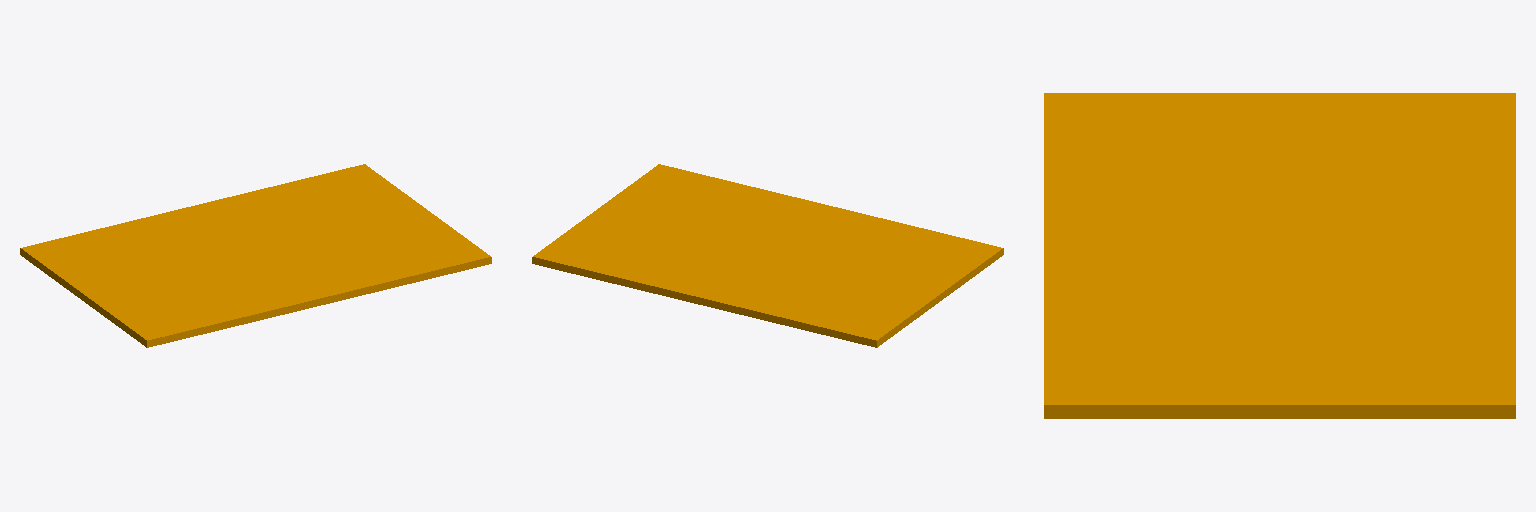
URDF robot description (object):
<?xml version="1.0"?>
<robot name="object">
  <link name="field">
    <visual>
      <origin xyz="0 0 -0.001"/>
      <geometry>
        <mesh filename="soccer_field_ground.obj" scale="1 1 1"/>
      </geometry>
    </visual>

    <collision>
      <origin xyz="0 0 0"/>
      <geometry>
        <mesh filename="soccer_field_ground.obj" scale="1 1 1"/>
      </geometry>
    </collision>
  </link>
</robot>

--- What the picture shows (computed from the rendered views, not written in the file) ---
3 views of the same robot in one strip: view 1: azimuth 30°, elevation 25°; view 2: azimuth 150°, elevation 25°; view 3: azimuth 270°, elevation 25° (orthographic).
Model object with 1 links and 0 joints (none), rooted at field, posed all joints at 0.
Links seen in each view (by area): view 1: field; view 2: field; view 3: field.
Link boxes in pixels (left/top/right/bottom): field: left=20, top=164, right=491, bottom=347; field: left=532, top=164, right=1003, bottom=347; field: left=1044, top=93, right=1515, bottom=418.
Bounding box of the posed robot: 97.12 × 61.89 × 1.96 m (x, y, z).
1 mesh visuals loaded from 1 distinct referenced files (1 OBJ).
